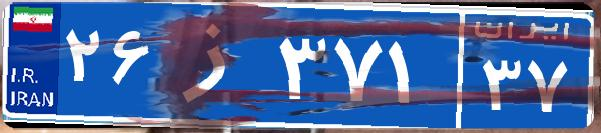1: (385, 28, 445, 110)
2: (57, 26, 110, 107)
3: (273, 28, 330, 110), (475, 38, 525, 113)
6: (110, 28, 158, 105)
7: (330, 28, 385, 110), (525, 38, 570, 115)
ز: (158, 15, 273, 115)
